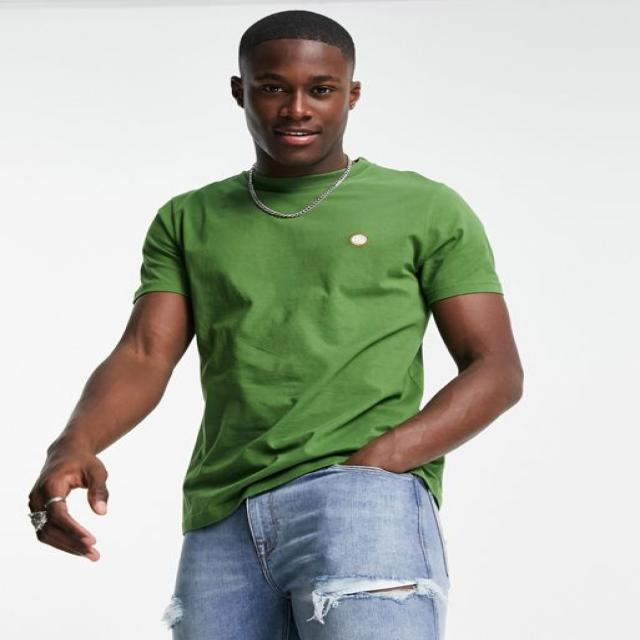tshirt: (131, 157, 504, 530)
